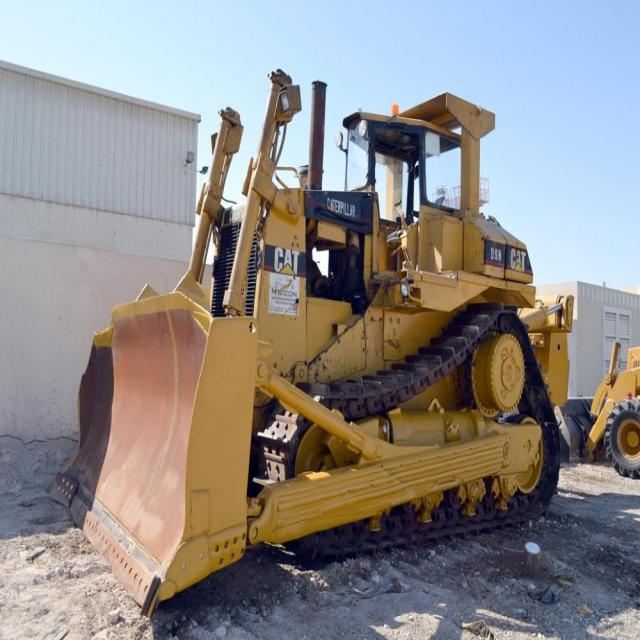Bulldozer: (63, 43, 567, 628)
